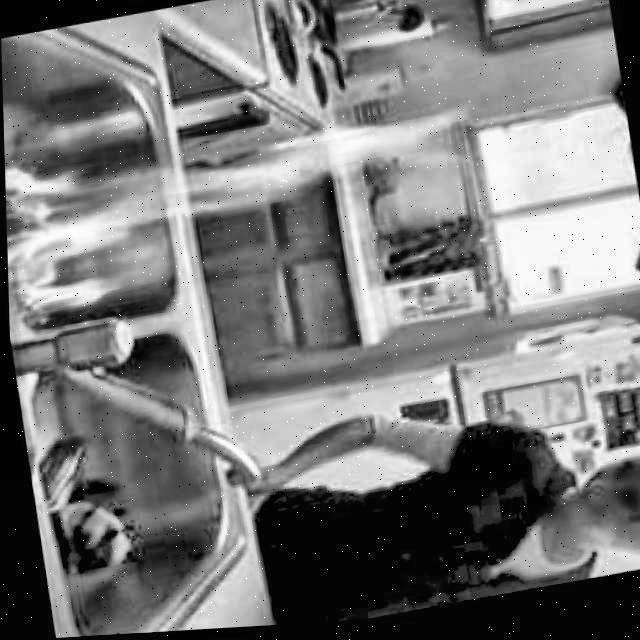Fire: (3, 89, 488, 322)
